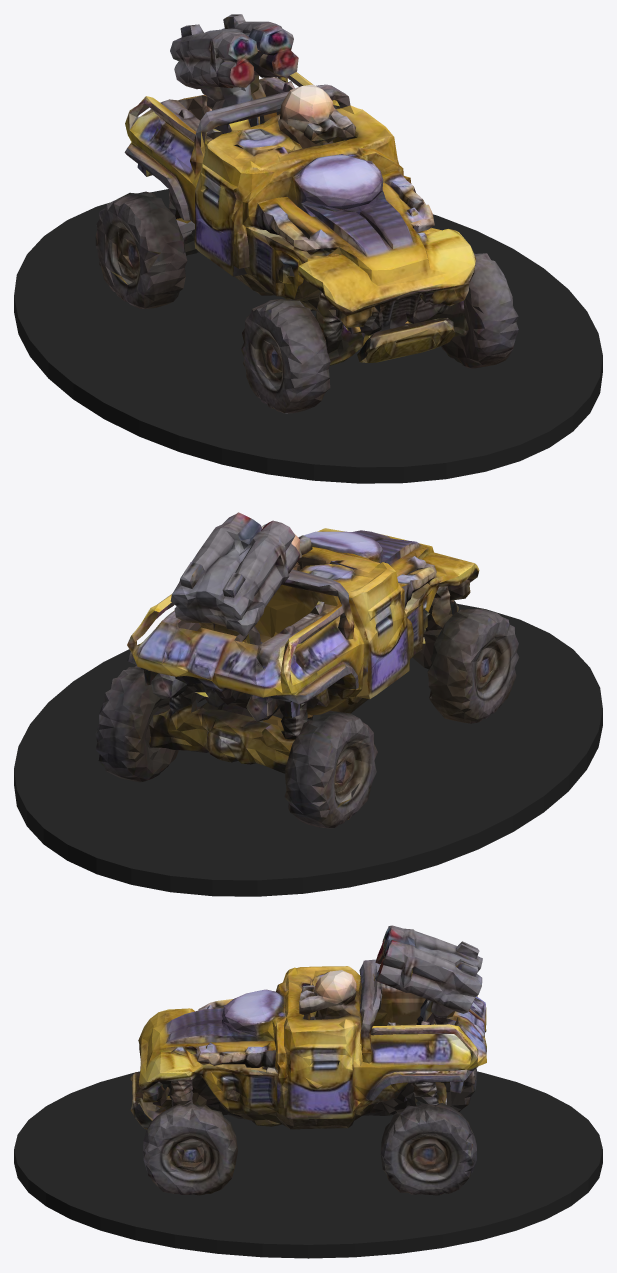
File: achilles-ridgerunner.glb
3 renders of one model, top to bottom at view 1: azimuth 30°, elevation 25°; view 2: azimuth 150°, elevation 25°; view 3: azimuth 270°, elevation 25°, orthographic. The views are drawn at different scales.
Visible parts, largest first — view 1: figure, base; view 2: base, figure; view 3: figure, base.
Boxes of the visible parts, <box> form: figure: <box>95,14,518,413</box>; base: <box>14,189,602,483</box>; base: <box>14,603,602,896</box>; figure: <box>95,512,519,828</box>; figure: <box>130,925,486,1195</box>; base: <box>14,1071,602,1258</box>.
Size of the model in its own units: 3.62 by 2.02 by 4.72.
2 materials, 1 textured.
